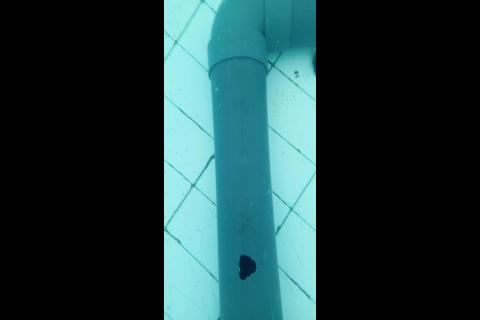kebocoran: (237, 251, 256, 280)
